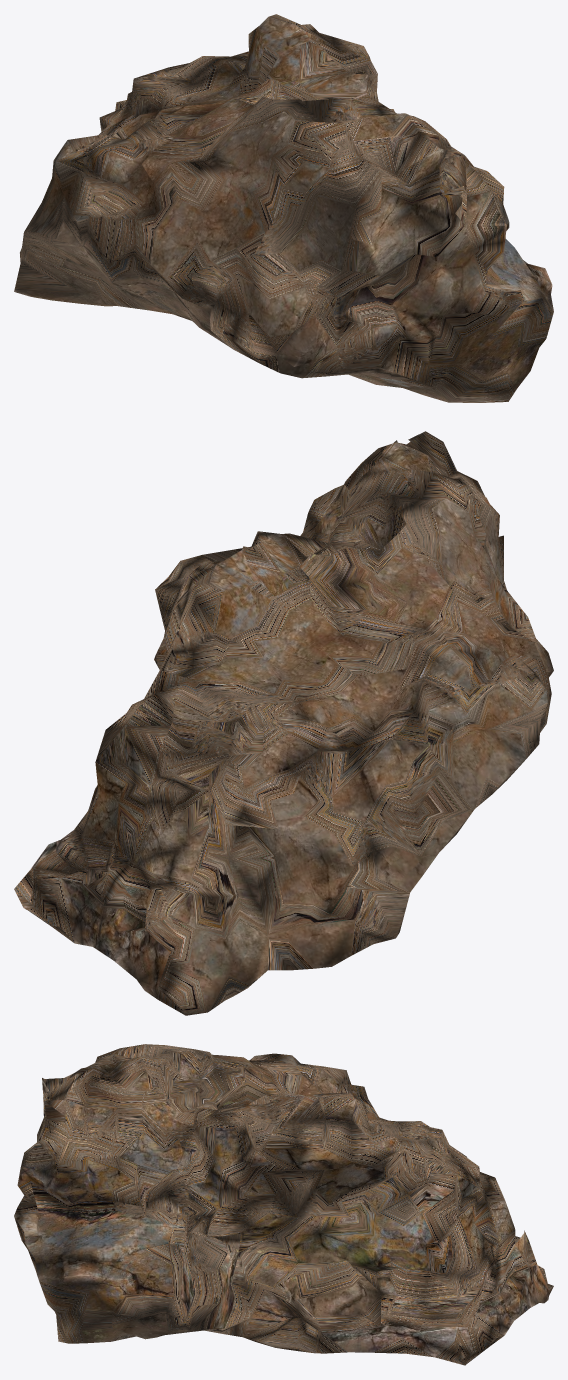
File: lg-p-boulder.glb
3 views of the same model, one above another, from view 1: azimuth 30°, elevation 25°; view 2: azimuth 150°, elevation 25°; view 3: azimuth 270°, elevation 25° (orthographic). The views are drawn at different scales.
Parts seen in each view (by area): view 1: boulder_01; view 2: boulder_01; view 3: boulder_01.
Part boxes in pixels (left/top/right/bottom): boulder_01: left=14, top=14, right=553, bottom=402; boulder_01: left=14, top=431, right=553, bottom=1015; boulder_01: left=14, top=1044, right=553, bottom=1365.
Size of the model in its own units: 1.27 by 0.9766 by 1.82.
1 material, 1 textured.
